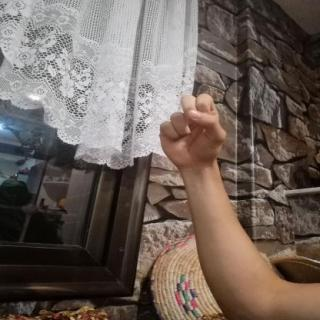QAAF: (148, 86, 238, 179)
